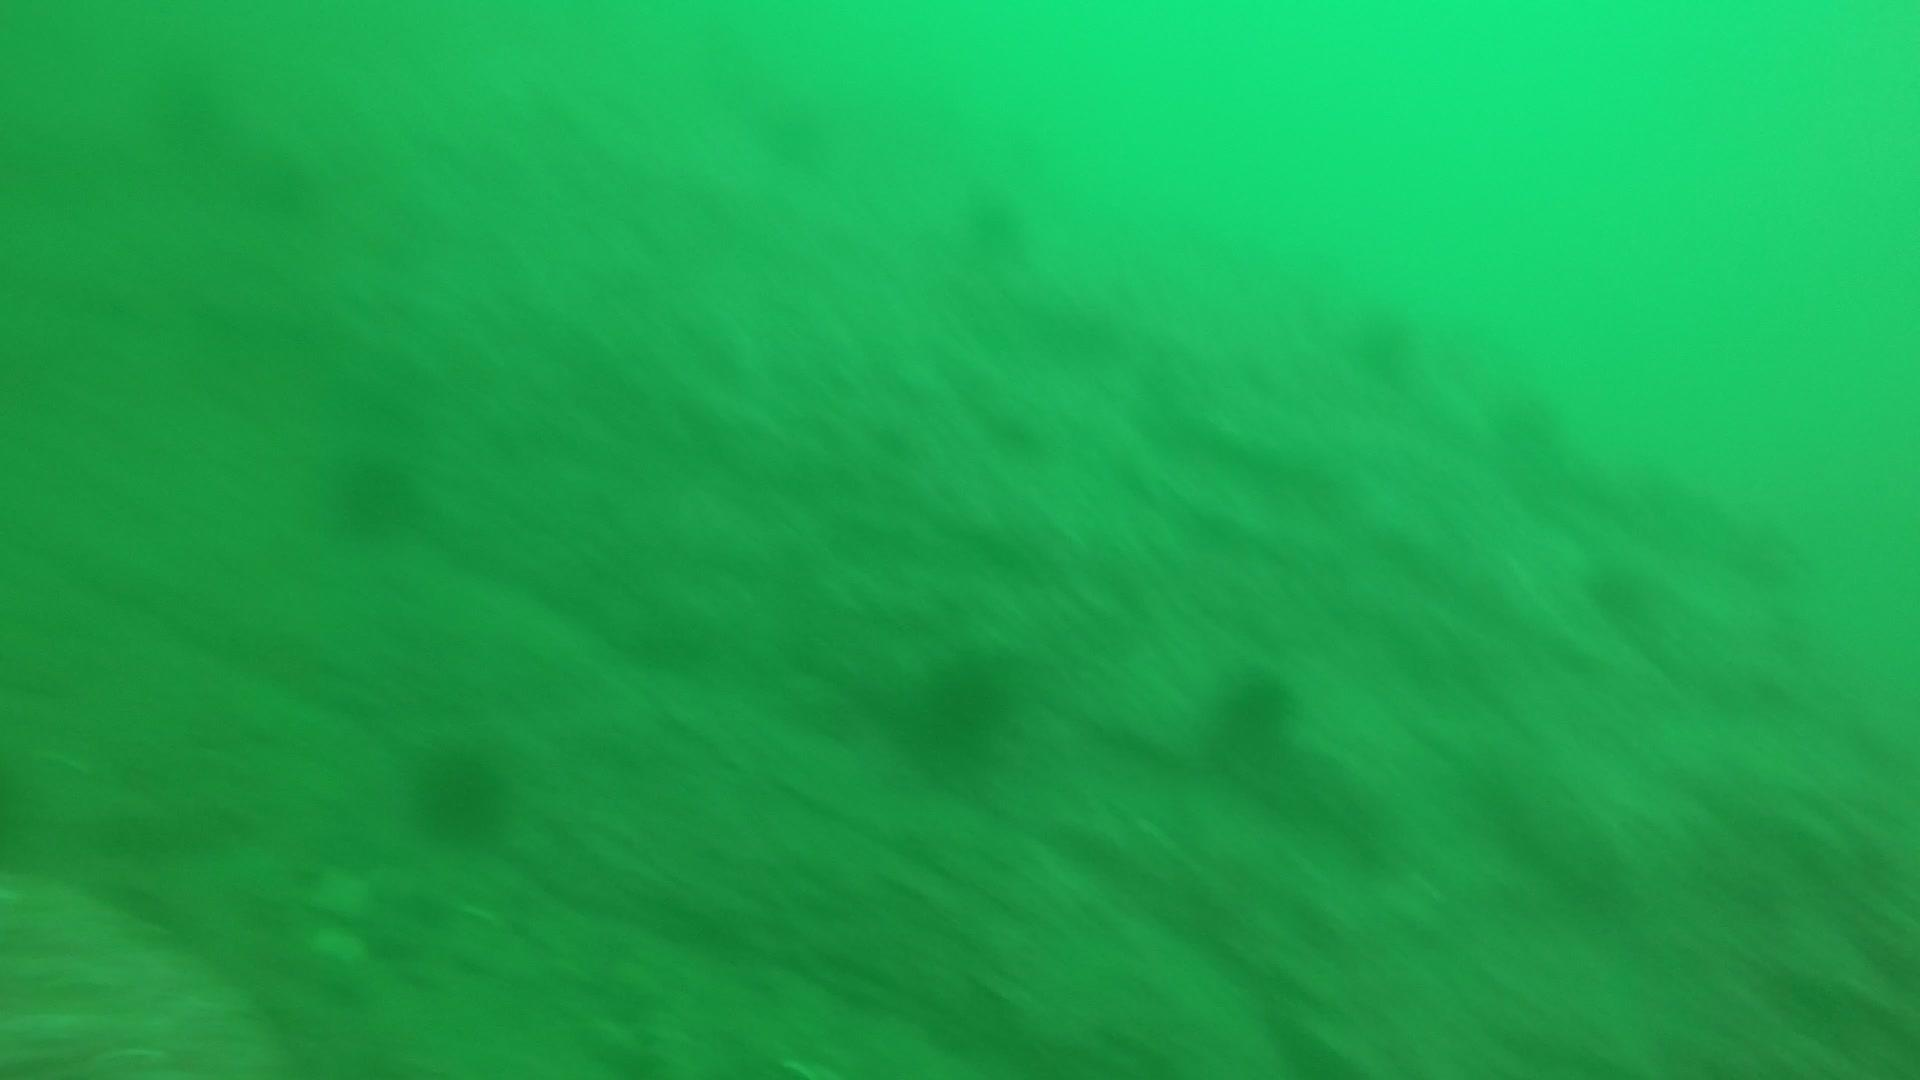echinus: (894, 646, 1021, 777), (404, 733, 516, 844), (319, 440, 425, 542), (1208, 659, 1302, 750), (233, 136, 324, 220), (752, 84, 839, 170), (1486, 382, 1569, 464), (1342, 295, 1423, 378), (1578, 553, 1660, 626), (956, 181, 1033, 258)
